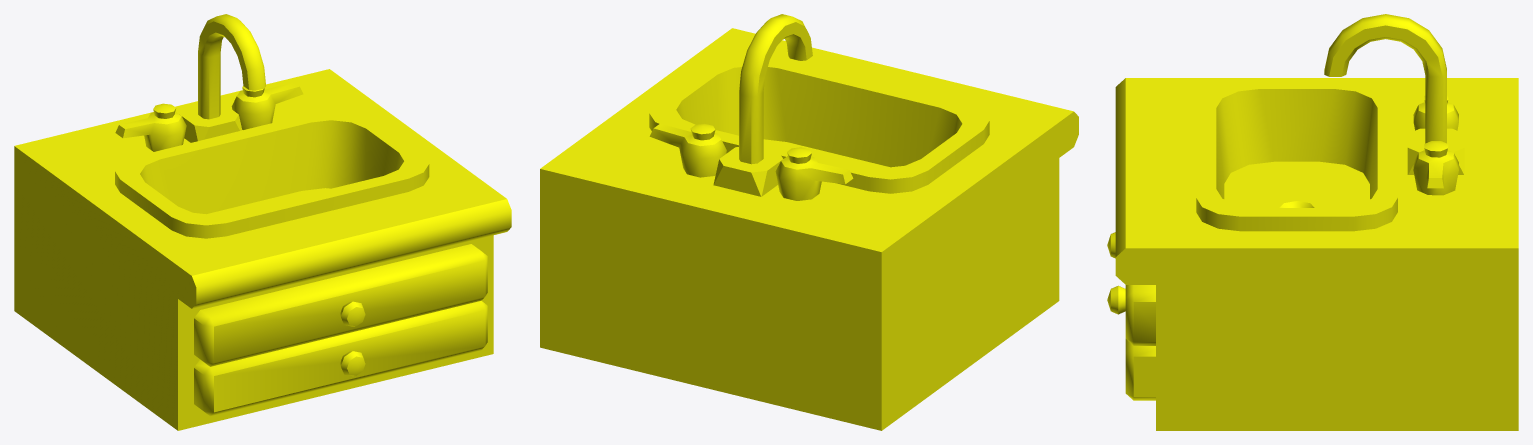
Rendered from kitchencounter_sink.gltf.
3 renders of one model, left to right at view 1: azimuth 30°, elevation 25°; view 2: azimuth 150°, elevation 25°; view 3: azimuth 270°, elevation 25°, orthographic. The views are drawn at different scales.
Visible parts, largest first — view 1: kitchencounter_sink; view 2: kitchencounter_sink; view 3: kitchencounter_sink.
Part boxes in pixels (box(x1,y1,x2,y2)): kitchencounter_sink: box(14, 14, 511, 430); kitchencounter_sink: box(540, 14, 1078, 430); kitchencounter_sink: box(1107, 14, 1518, 430).
Bounding box in the file's own units: 2 × 1.8 × 2.04.
Materials: 1 (1 with a texture image).
